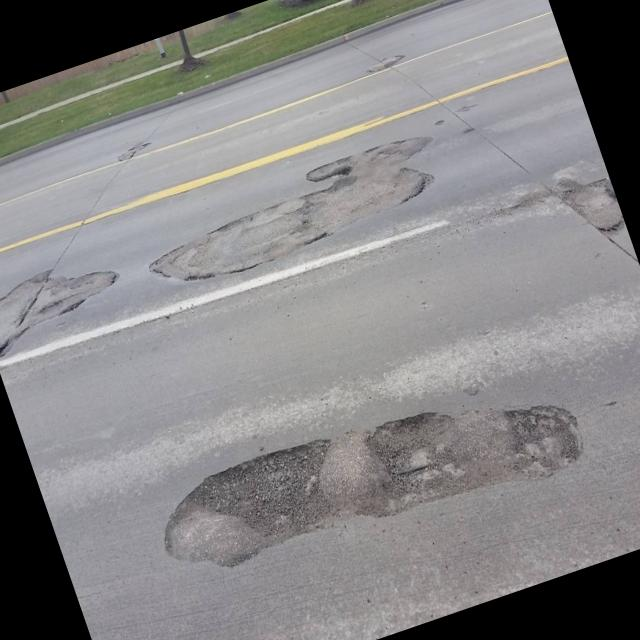Potholes: (134, 336, 587, 602), (130, 129, 450, 306), (0, 232, 140, 364)
